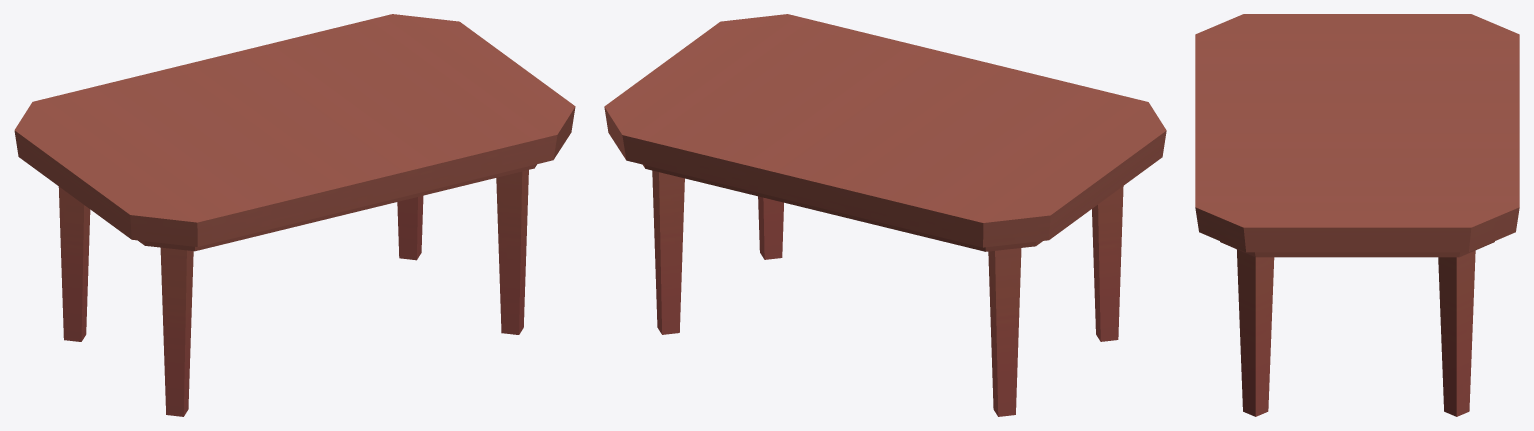
Rendered from SM_Table_Dinning_1_06.fbx.
The picture shows the model from 3 angles, left to right: view 1: azimuth 30°, elevation 25°; view 2: azimuth 150°, elevation 25°; view 3: azimuth 270°, elevation 25°; orthographic projection.
Visible parts, largest first — view 1: SM_Table_Dinning_1_06; view 2: SM_Table_Dinning_1_06; view 3: SM_Table_Dinning_1_06.
Part boxes in pixels (x1,y1,x2,y2): SM_Table_Dinning_1_06: [14, 14, 575, 416]; SM_Table_Dinning_1_06: [604, 14, 1166, 416]; SM_Table_Dinning_1_06: [1195, 14, 1519, 416].
Size of the model in its own units: 222 by 102 by 142.
